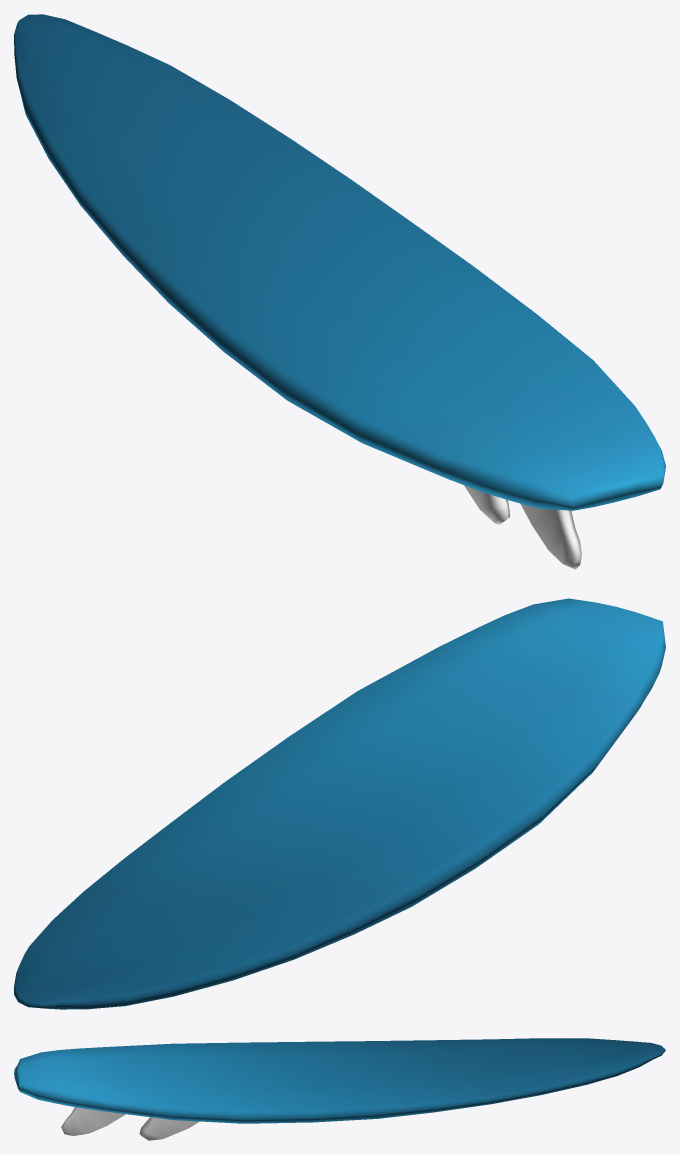
The model's file is Surfboard_Blue.fbx.
3 views of the same model, one above another, from view 1: azimuth 30°, elevation 25°; view 2: azimuth 150°, elevation 25°; view 3: azimuth 270°, elevation 25° (orthographic). The views are drawn at different scales.
Visible parts, largest first — view 1: Surfboard_Blue; view 2: Surfboard_Blue; view 3: Surfboard_Blue.
Part boxes in pixels (x1,y1,x2,y2): Surfboard_Blue: [14, 14, 665, 569]; Surfboard_Blue: [14, 598, 665, 1009]; Surfboard_Blue: [14, 1038, 665, 1140].
Bounding box in the file's own units: 63.99 × 38.95 × 251.
1 material, 1 textured.
